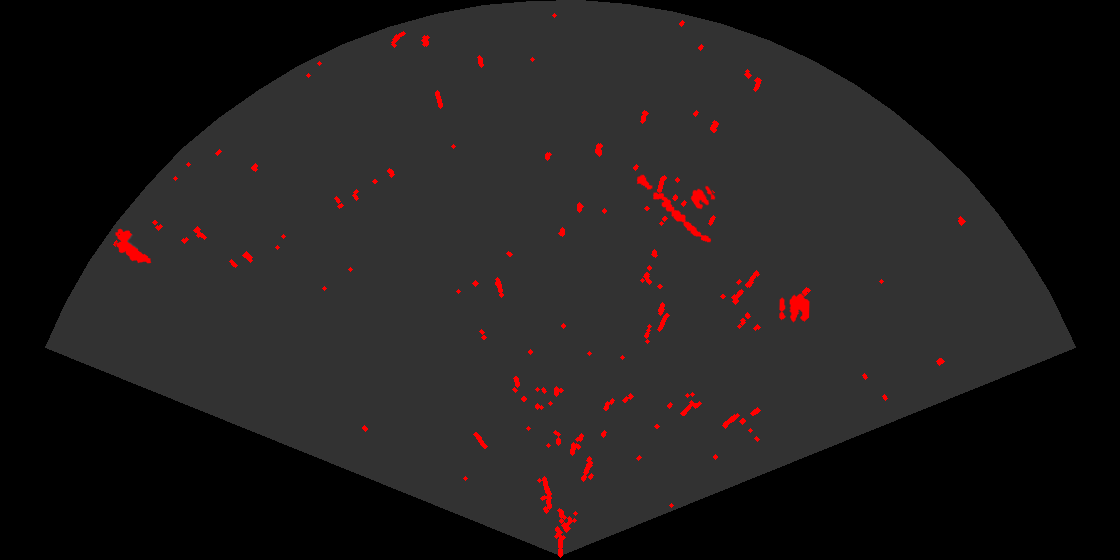AUV: (114, 227, 153, 265)
ball: (778, 292, 811, 324), (689, 184, 717, 211)
chain: (635, 173, 713, 244)
